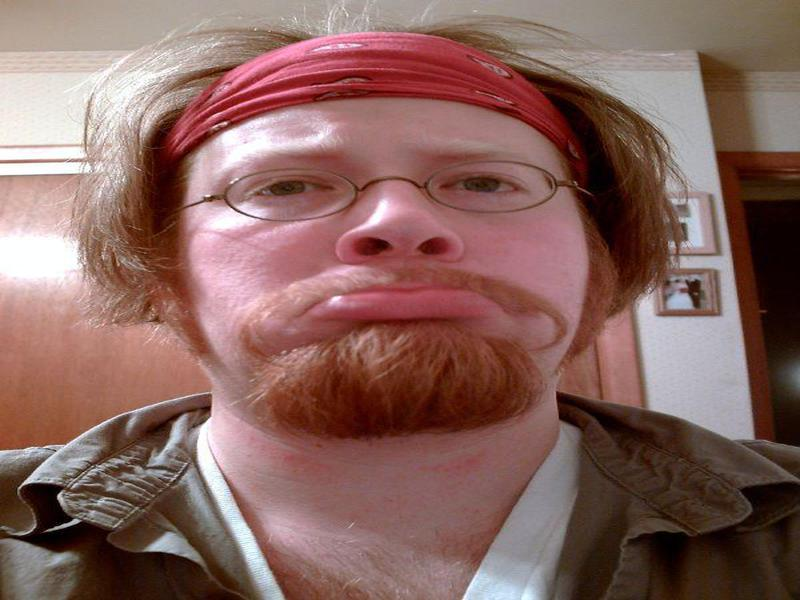person: (15, 20, 799, 600)
